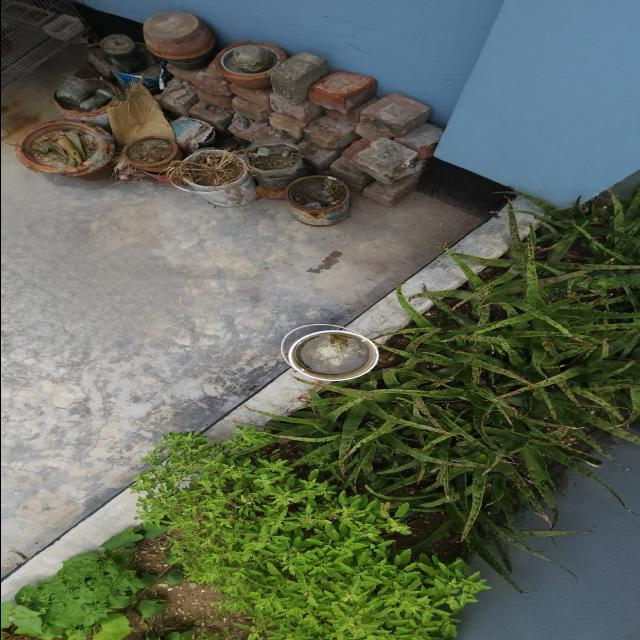Breeding Place: (214, 197, 640, 571), (0, 35, 437, 222), (36, 465, 482, 640), (264, 310, 392, 390)
